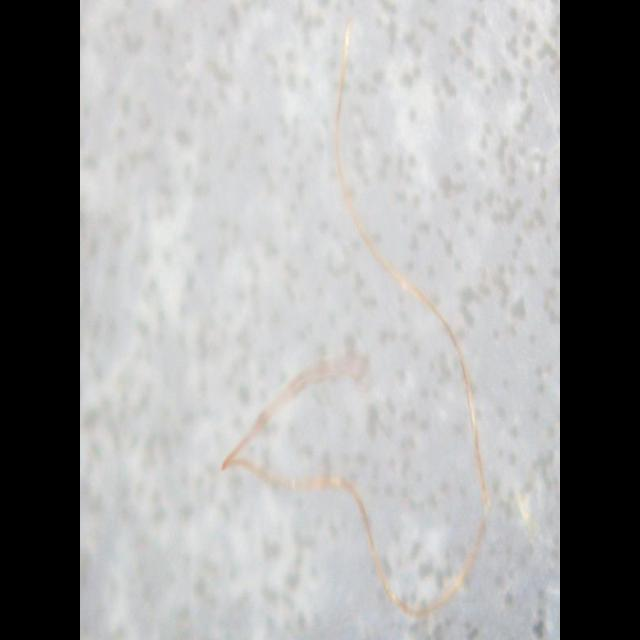Fibre: (220, 17, 492, 620)
